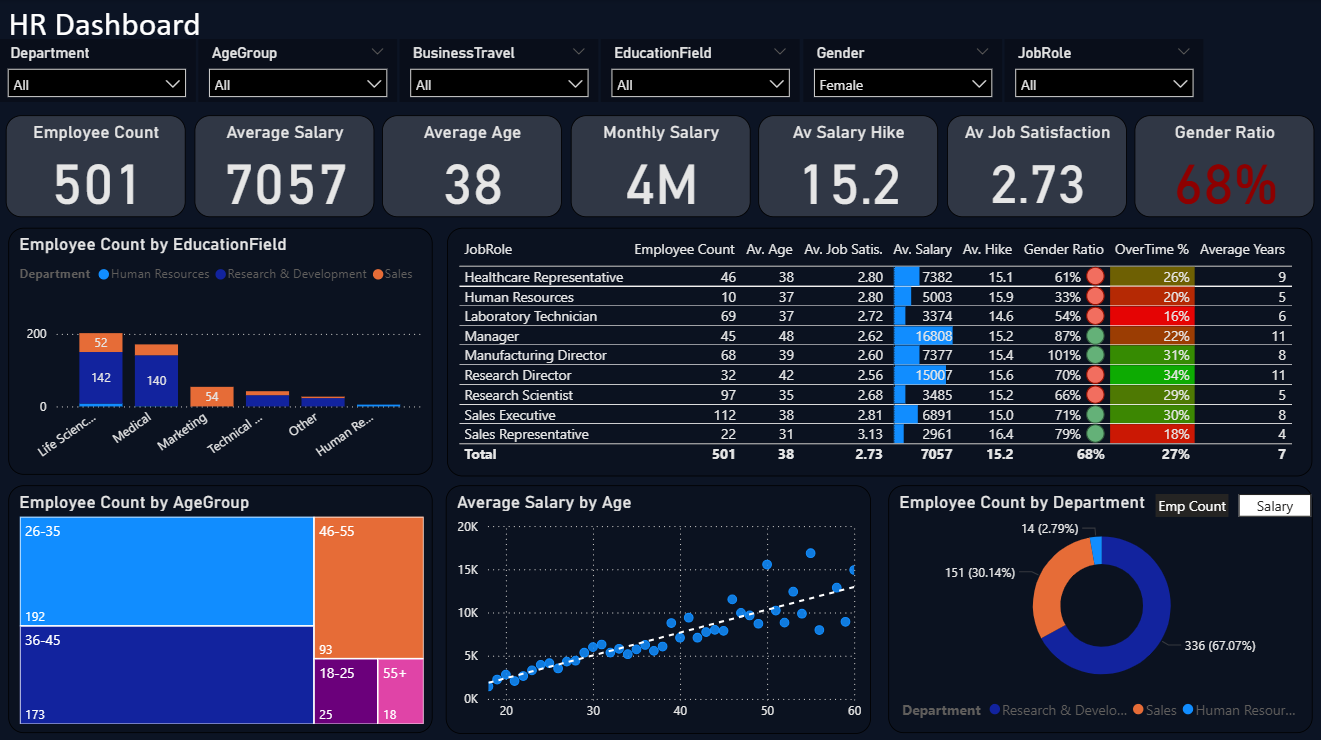

This screenshot's page, from the dashboard's own definition file:
{"tool":"powerbi","page":{"name":"Overview","canvas":[1280,720],"ordinal":0},"visuals":[{"type":"slicer","fields":{"Values":["HR_Analytics.Department"]},"box":[0,39,192,60.7],"z":0},{"type":"card","title":"Employee Count","fields":{"Values":["HR_Analytics.Employee Count"]},"box":[8.7,112.7,173.4,98.2],"z":1000},{"type":"slicer","fields":{"Values":["HR_Analytics.AgeGroup"]},"box":[194.3,39,192.1,60.7],"z":2000},{"type":"slicer","fields":{"Values":["HR_Analytics.BusinessTravel"]},"box":[388.8,39,192.1,60.7],"z":3000},{"type":"slicer","fields":{"Values":["HR_Analytics.EducationField"]},"box":[583.3,39,192.1,60.7],"z":4000},{"type":"slicer","fields":{"Values":["HR_Analytics.Gender"]},"box":[777.8,39,192.1,60.7],"z":5000},{"type":"slicer","fields":{"Values":["HR_Analytics.JobRole"]},"box":[972.3,39,192.1,60.7],"z":6000},{"type":"card","title":"Gender Ratio","fields":{"Values":["HR_Analytics.Gender Ratio"]},"box":[1098,112.7,173.4,98.2],"z":7000},{"type":"card","title":"Average Age","fields":{"Values":["HR_Analytics.Average Age"]},"box":[371.8,112.7,173.4,98.2],"z":8000},{"type":"card","title":"Av Salary Hike","fields":{"Values":["HR_Analytics.Average Salary Hike"]},"box":[734.9,112.7,173.4,98.2],"z":9000},{"type":"card","title":"Average Salary","fields":{"Values":["HR_Analytics.Average Salary"]},"box":[190.2,112.7,173.4,98.2],"z":10000},{"type":"card","title":"Monthly Salary","fields":{"Values":["HR_Analytics.Monthly Salary"]},"box":[553.3,112.7,173.4,98.2],"z":11000},{"type":"card","title":"Av Job Satisfaction","fields":{"Values":["HR_Analytics.Average Job Satisfaction"]},"box":[916.4,112.7,173.4,98.2],"z":12000},{"type":"columnChart","title":"Employee Count by EducationField","fields":{"Category":["HR_Analytics.EducationField"],"Y":["HR_Analytics.Employee Count"],"Series":["HR_Analytics.Department"]},"box":[10.5,221.2,409.7,238.3],"z":13000},{"type":"treemap","fields":{"Values":["HR_Analytics.Employee Count"],"Group":["HR_Analytics.AgeGroup"]},"box":[10.5,469.3,409.7,239.6],"z":14000},{"type":"donutChart","fields":{"Y":["HR_Analytics.Employee Count"],"Category":["HR_Analytics.Department"]},"box":[860.3,469.3,409.7,239.6],"z":15000},{"type":"tableEx","fields":{"Values":["HR_Analytics.JobRole","HR_Analytics.Employee Count","HR_Analytics.Average Age","HR_Analytics.Average Job Satisfaction","HR_Analytics.Average Salary","HR_Analytics.Average Salary Hike","HR_Analytics.Gender Ratio","HR_Analytics.OverTime %","HR_Analytics.Average Years"]},"box":[433.9,220.4,835,239.8],"z":16000},{"type":"scatterChart","fields":{"X":["HR_Analytics.Age"],"Y":["HR_Analytics.Average Salary"]},"box":[433.4,468.9,410,240],"z":17000},{"type":"bookmarkNavigator","box":[1118.2,477.3,150.9,22.7],"z":19000},{"type":"textbox","box":[6,0,284.7,57.9],"z":20000}]}

Visuals, with their boxes in screenshot pixels (x1, y1, x2, y2), scaled from the page's 1280x720 canvas onto the 1321x740 screenshot:
slicer - HR_Analytics.Department: left=0, top=40, right=198, bottom=102
"Employee Count" card: left=9, top=116, right=188, bottom=217
slicer - HR_Analytics.AgeGroup: left=201, top=40, right=399, bottom=102
slicer - HR_Analytics.BusinessTravel: left=401, top=40, right=600, bottom=102
slicer - HR_Analytics.EducationField: left=602, top=40, right=800, bottom=102
slicer - HR_Analytics.Gender: left=803, top=40, right=1001, bottom=102
slicer - HR_Analytics.JobRole: left=1003, top=40, right=1202, bottom=102
"Gender Ratio" card: left=1133, top=116, right=1312, bottom=217
"Average Age" card: left=384, top=116, right=563, bottom=217
"Av Salary Hike" card: left=758, top=116, right=937, bottom=217
"Average Salary" card: left=196, top=116, right=375, bottom=217
"Monthly Salary" card: left=571, top=116, right=750, bottom=217
"Av Job Satisfaction" card: left=946, top=116, right=1125, bottom=217
"Employee Count by EducationField" columnChart: left=11, top=227, right=434, bottom=472
treemap - HR_Analytics.Employee Count x HR_Analytics.AgeGroup: left=11, top=482, right=434, bottom=729
donutChart - HR_Analytics.Employee Count x HR_Analytics.Department: left=888, top=482, right=1311, bottom=729
tableEx - HR_Analytics.JobRole x HR_Analytics.Employee Count: left=448, top=227, right=1310, bottom=473
scatterChart - HR_Analytics.Age x HR_Analytics.Average Salary: left=447, top=482, right=870, bottom=729
bookmarkNavigator: left=1154, top=491, right=1310, bottom=514
textbox: left=6, top=0, right=300, bottom=60
